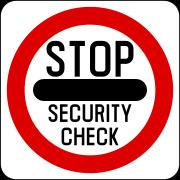Stop: (14, 15, 170, 165)
